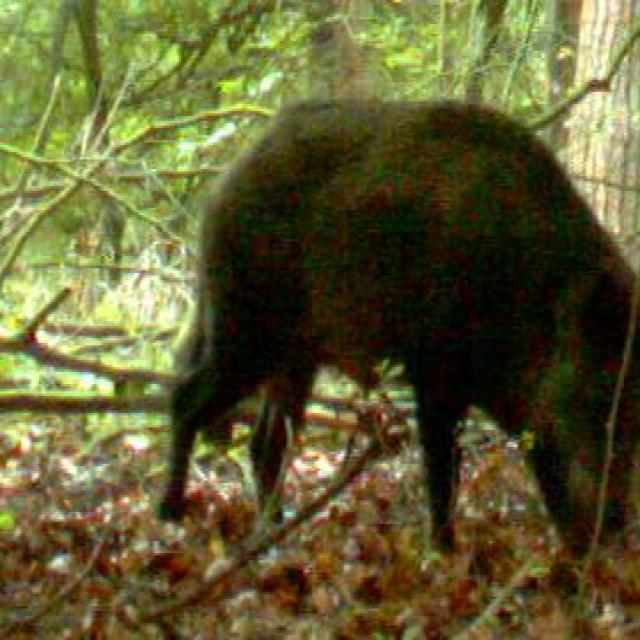pig: (115, 57, 640, 603)
